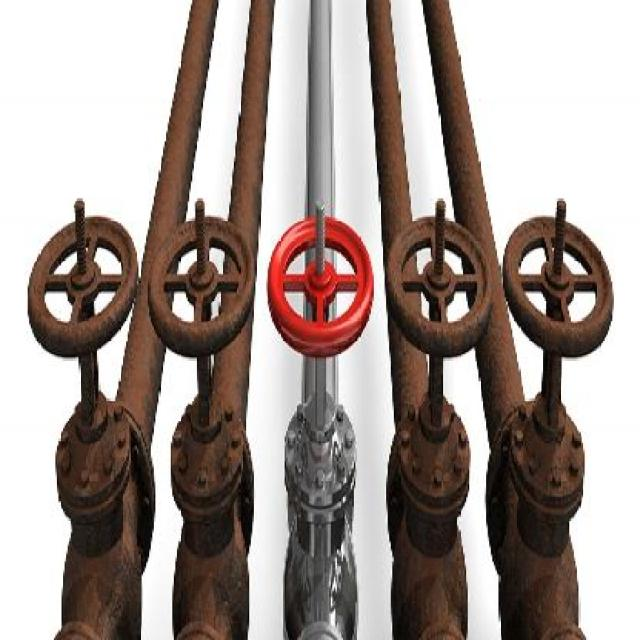corrosion: (27, 0, 615, 640)
